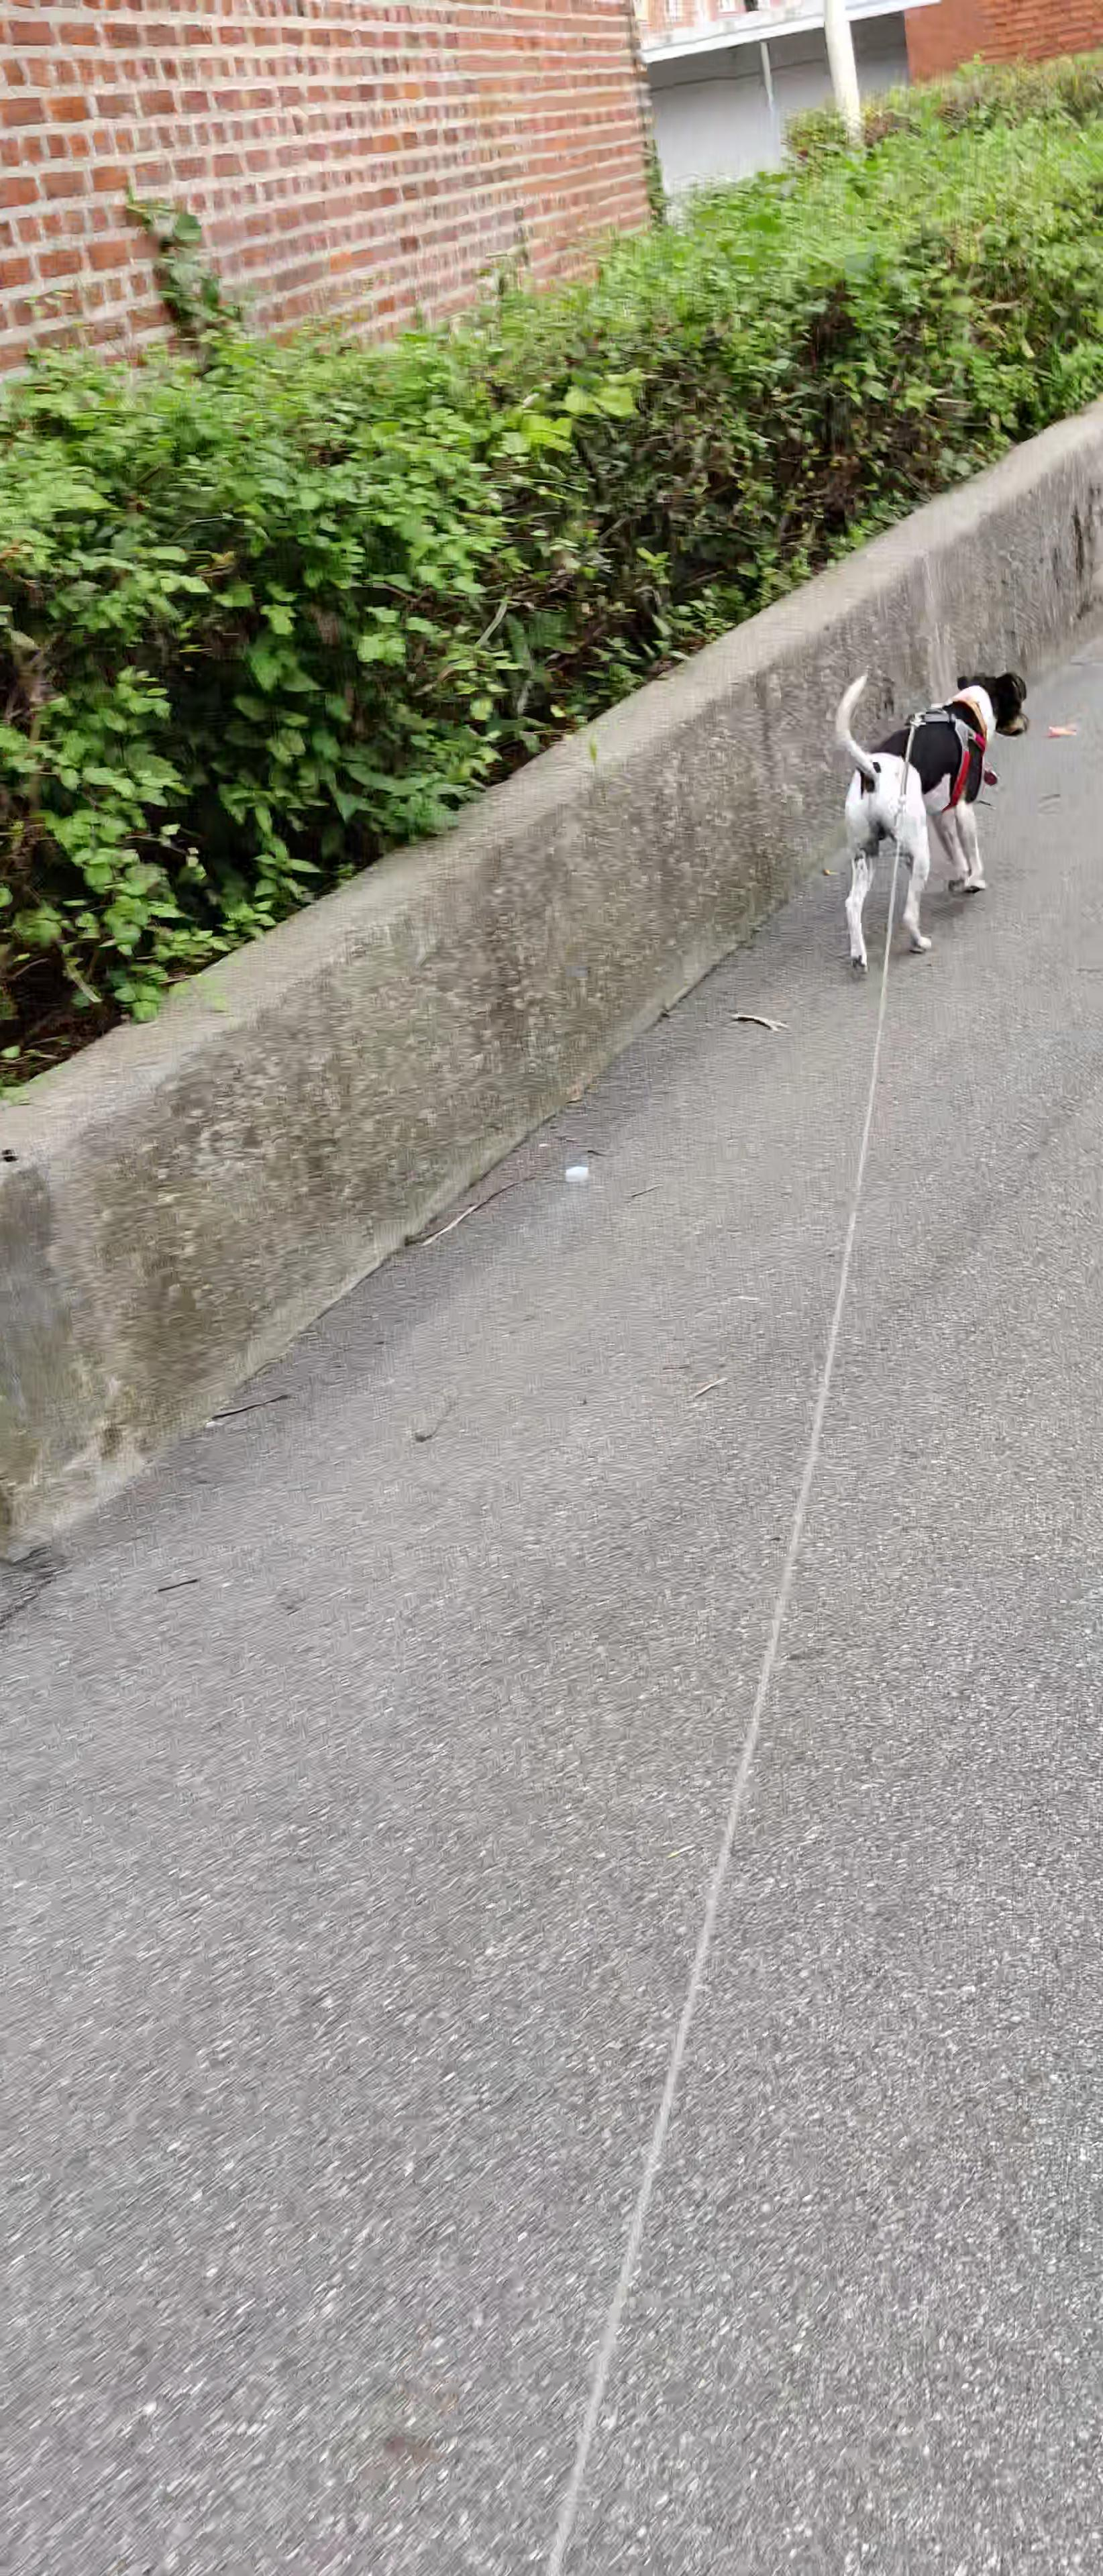Dog: (827, 665, 1034, 981)
